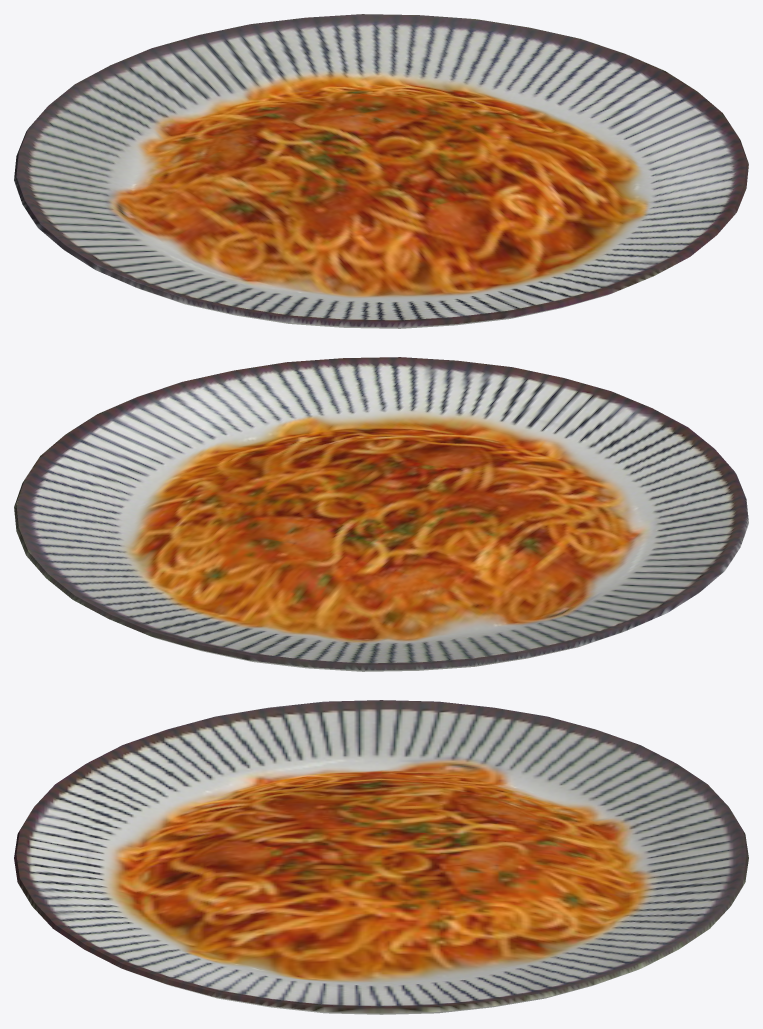
Rendered from dish_A_spaghetti.fbx.
3 renders of one model, top to bottom at view 1: azimuth 30°, elevation 25°; view 2: azimuth 150°, elevation 25°; view 3: azimuth 270°, elevation 25°, orthographic.
Parts seen in each view (by area): view 1: dish_A_spaghetti; view 2: dish_A_spaghetti; view 3: dish_A_spaghetti.
Part boxes in pixels (x1=…): dish_A_spaghetti: x1=14, y1=14, x2=748, y2=328; dish_A_spaghetti: x1=14, y1=357, x2=748, y2=671; dish_A_spaghetti: x1=14, y1=700, x2=748, y2=1014.
Size of the model in its own units: 13.15 by 1.3 by 13.15.
Materials: 1 (1 with a texture image).
